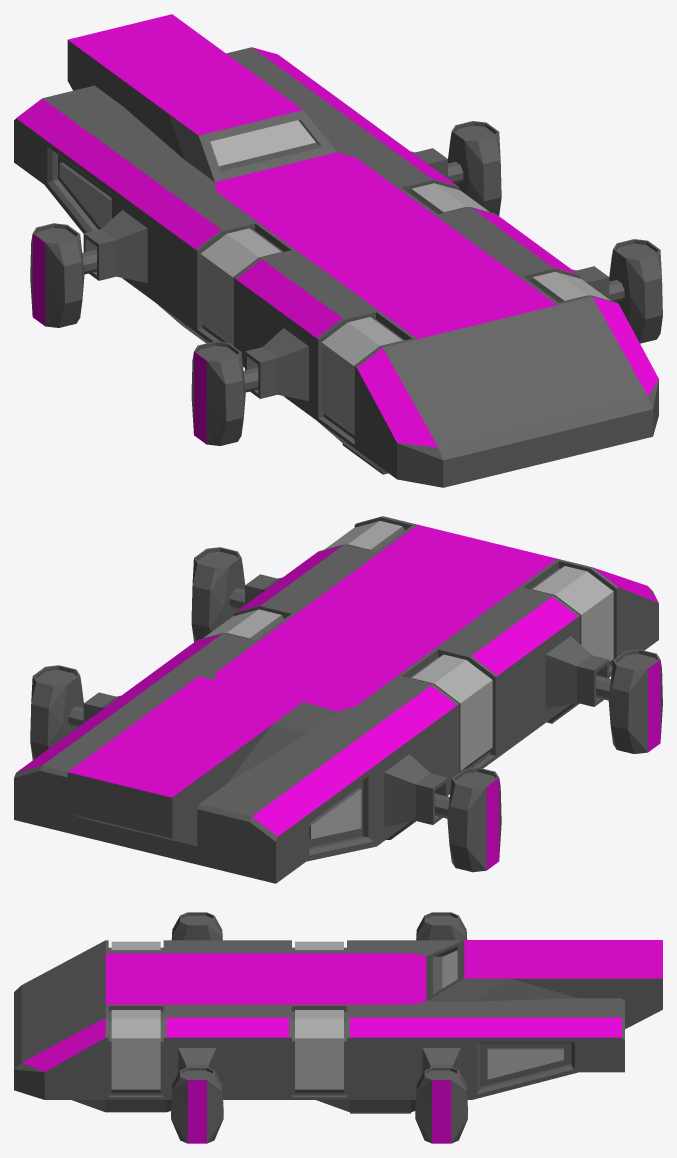
File: ESV.fbx
3 views of the same model, one above another, from view 1: azimuth 30°, elevation 25°; view 2: azimuth 150°, elevation 25°; view 3: azimuth 270°, elevation 25° (orthographic). The views are drawn at different scales.
Visible parts, largest first — view 1: Body, Engine FR, Engine RR, Engine FL, Engine RL; view 2: Body, Engine RR, Engine FR, Engine FL, Engine RL; view 3: Body, Engine FL, Engine RL, Engine FR, Engine RR.
Part boxes in pixels (box(x1,y1,x2,y2)): Body: box(14, 14, 658, 487); Engine FR: box(191, 341, 258, 445); Engine RR: box(30, 223, 96, 327); Engine FL: box(609, 239, 662, 343); Engine RL: box(448, 121, 501, 215); Body: box(14, 516, 658, 883); Engine RR: box(435, 767, 501, 872); Engine FR: box(596, 649, 662, 753); Engine FL: box(191, 547, 244, 641); Engine RL: box(30, 665, 83, 759); Body: box(14, 940, 662, 1112); Engine FL: box(171, 1067, 223, 1143); Engine RL: box(415, 1067, 467, 1143); Engine FR: box(171, 912, 222, 940); Engine RR: box(416, 912, 467, 940).
Size of the model in its own units: 1300 by 419 by 2124.
